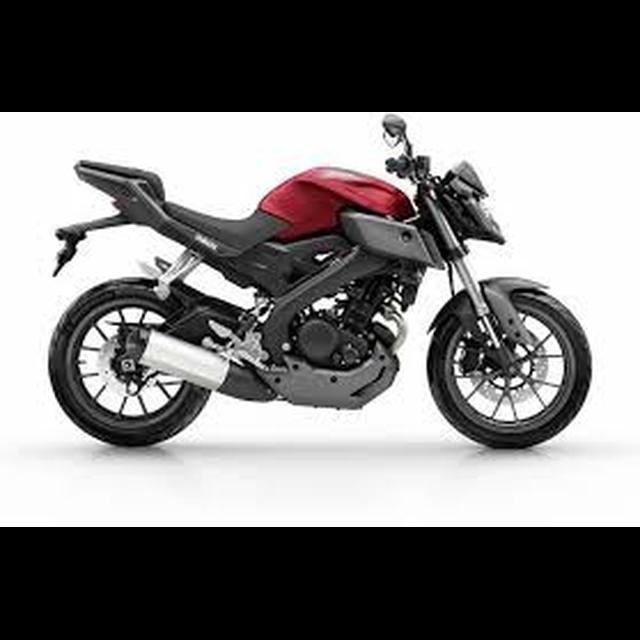motorcycle: (47, 111, 600, 458)
